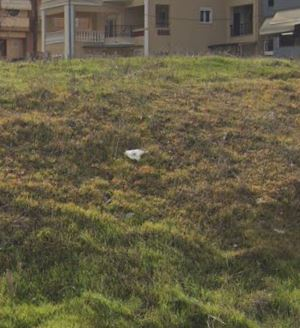trash: (122, 145, 149, 161)
